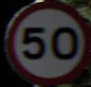Speed limit: (5, 2, 84, 77)
